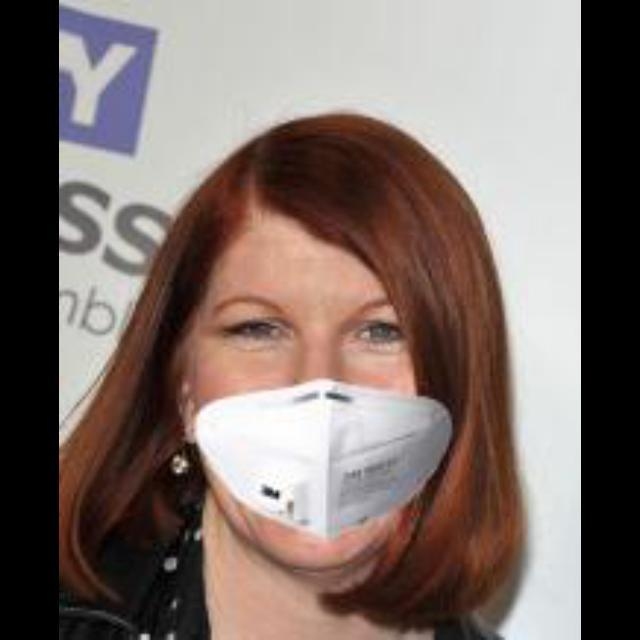suspicion: (142, 150, 480, 562)
